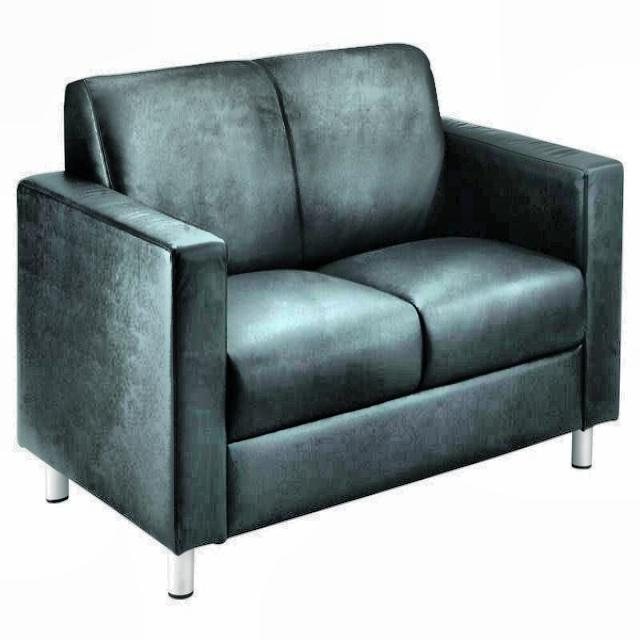sofa: (15, 39, 624, 598)
